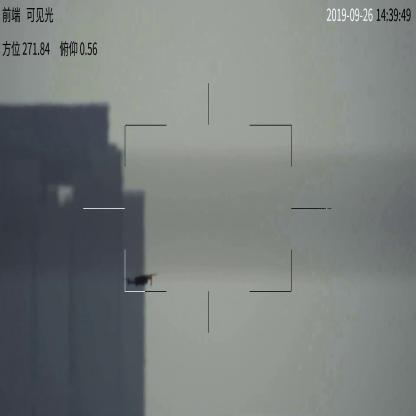uav: (124, 269, 160, 287)
